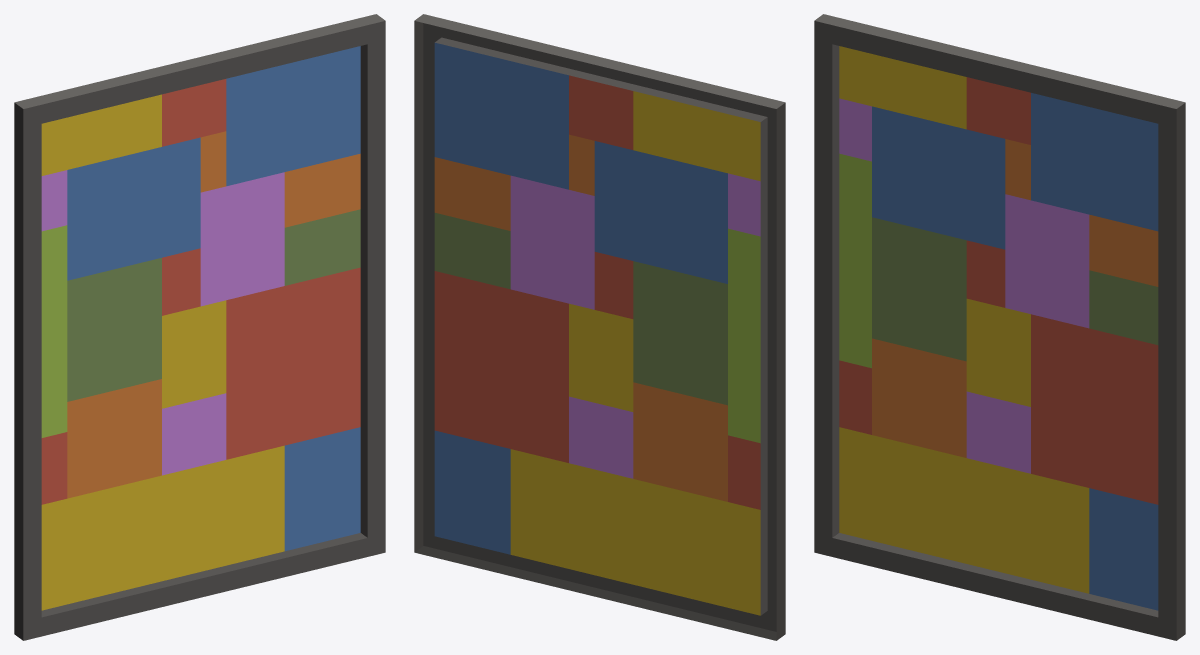
File: SO_Painting_02.fbx
The picture shows the model from 3 angles, left to right: view 1: azimuth 30°, elevation 25°; view 2: azimuth 150°, elevation 25°; view 3: azimuth 330°, elevation 25°; orthographic projection.
Visible parts, largest first — view 1: SO_Painting_02; view 2: SO_Painting_02; view 3: SO_Painting_02.
Part boxes in pixels (x1,y1,x2,y2): SO_Painting_02: (14,14,385,640); SO_Painting_02: (414,14,785,640); SO_Painting_02: (814,14,1185,640).
Size of the model in its own units: 0.8007 by 1.12 by 0.0354.
